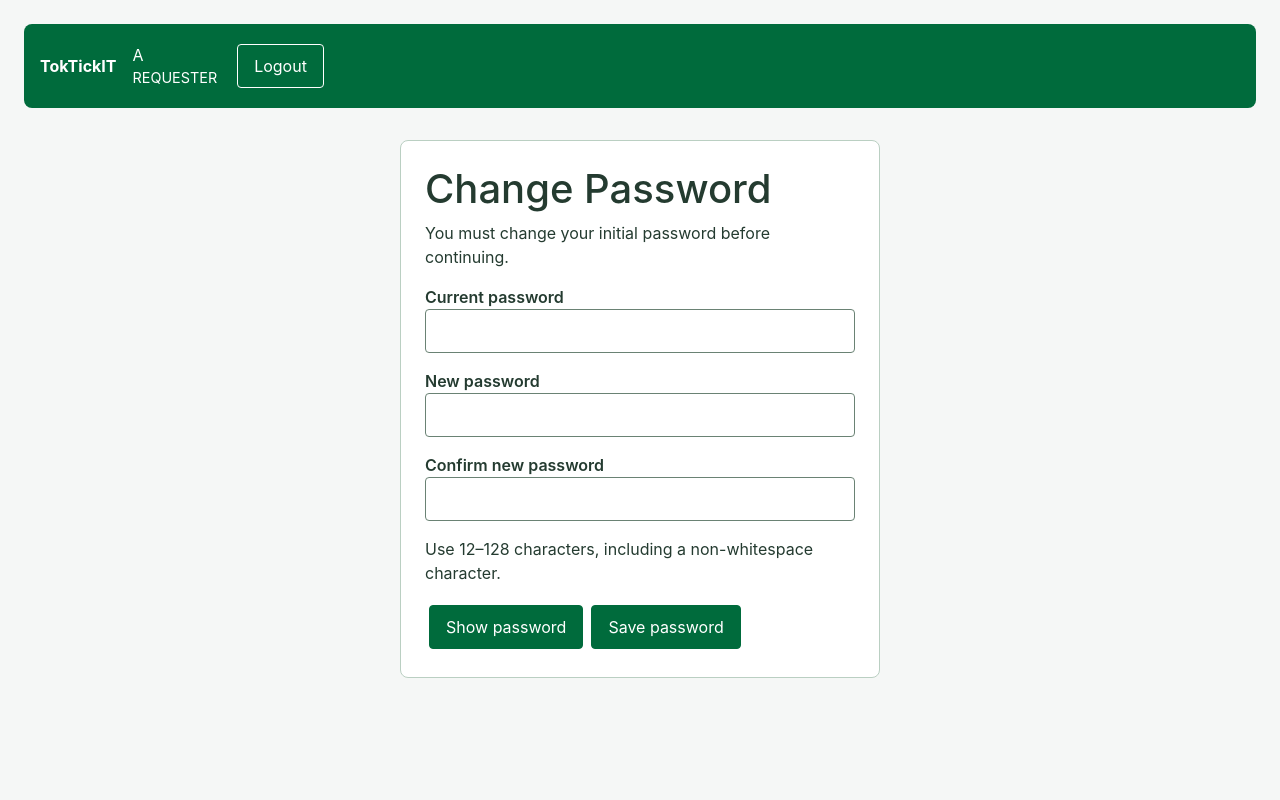
Test case: UI-02 shows server validation and session-loss states without bypass
This screenshot has width=1280, height=800.
Expected: the heading "Change Password" is shown, left=425, top=164, right=772, bottom=213
Type "incorrect password" into the password field labelled "Current password". click: [640, 331]
box: left=425, top=309, right=855, bottom=353
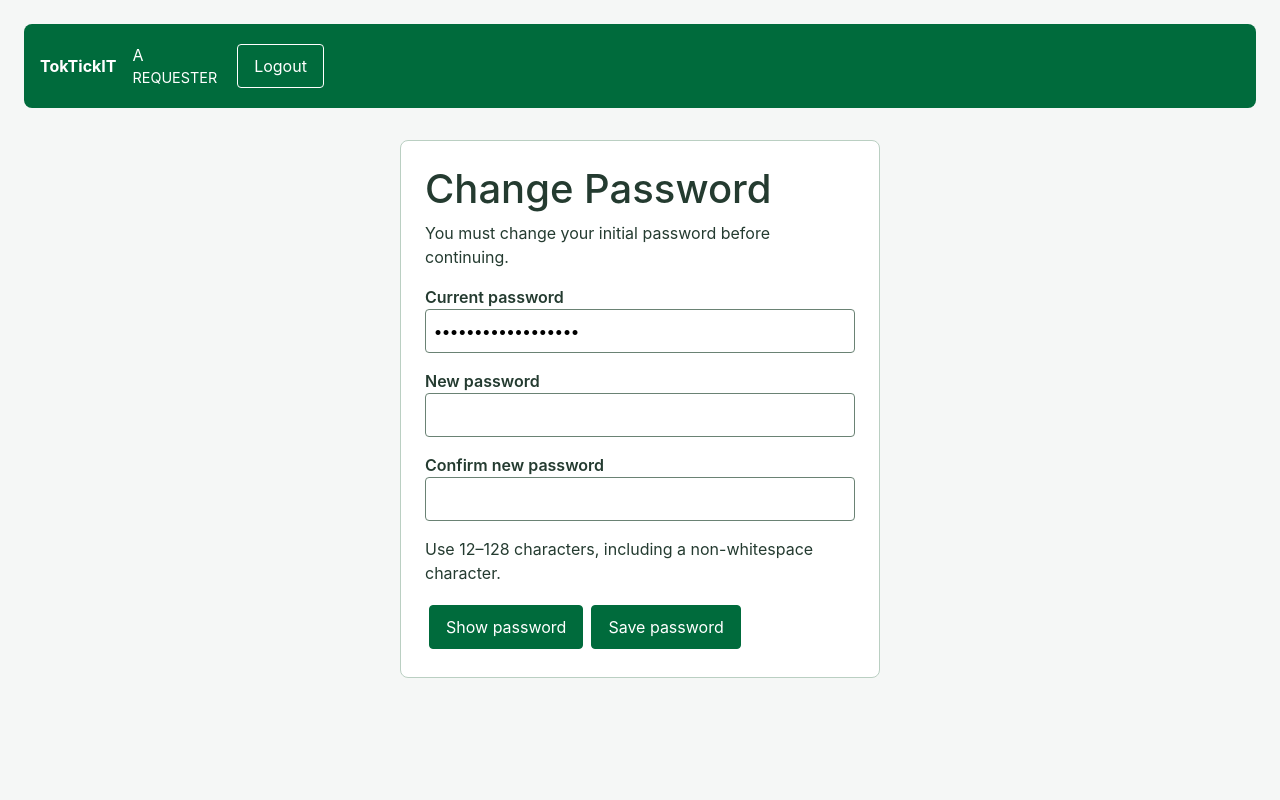
Type "new password long" into the password field labelled "New password". click: [640, 415]
box: left=425, top=393, right=855, bottom=437
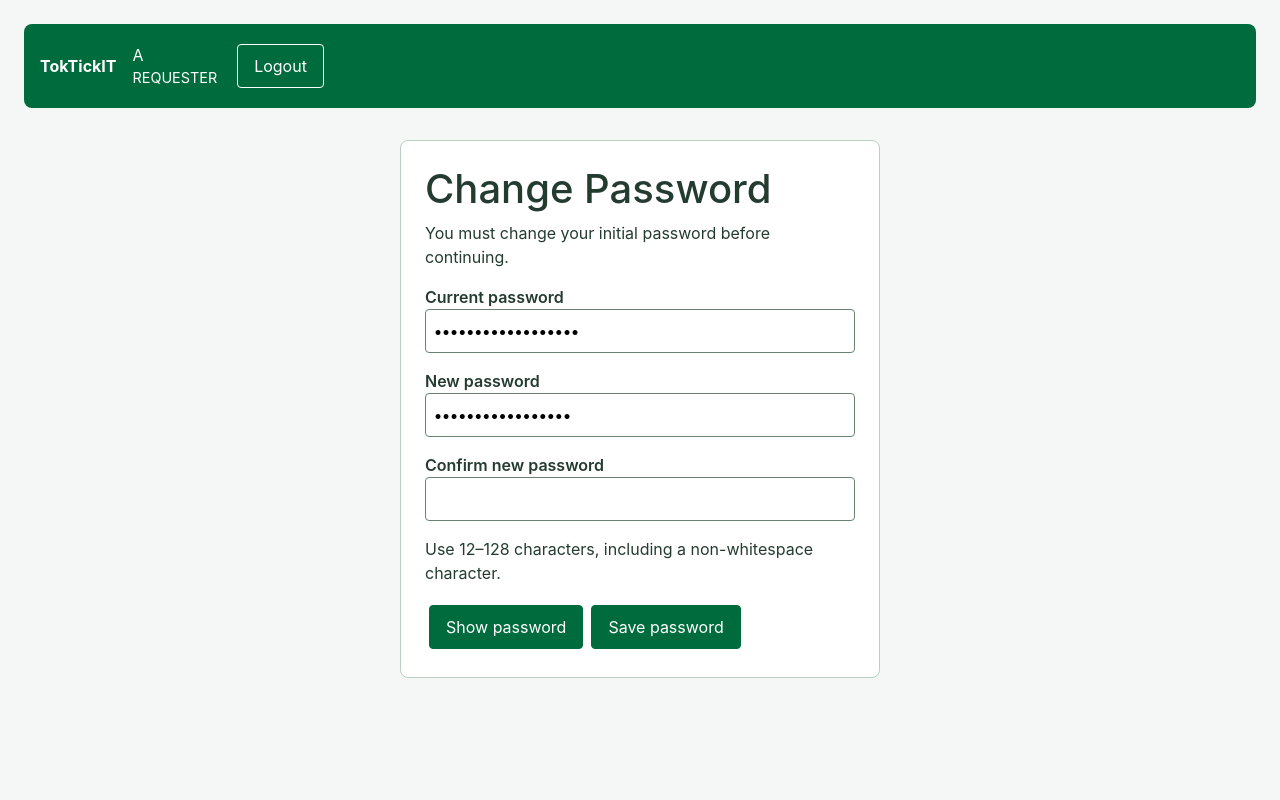
Type "new password long" into the password field labelled "Confirm new password". click: [640, 499]
box: left=425, top=477, right=855, bottom=521
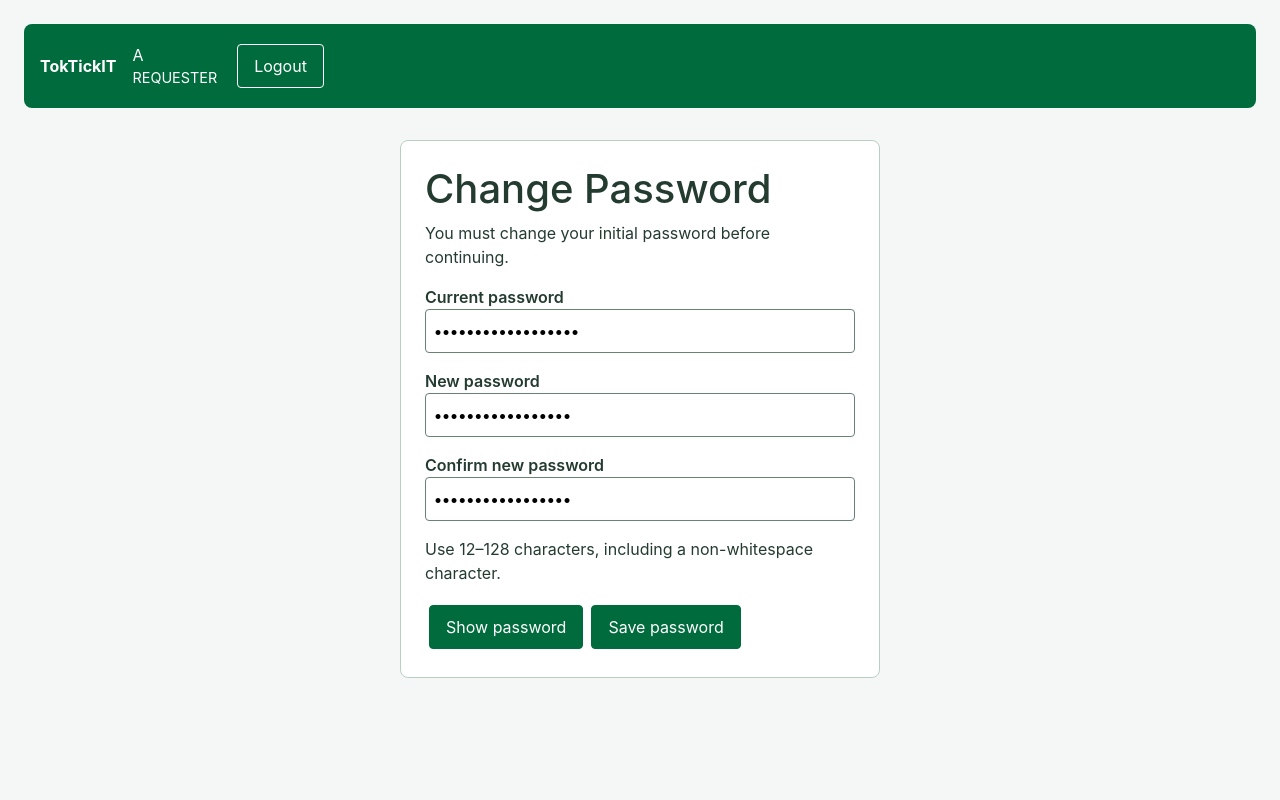
Click the button "Save password". click: [666, 627]
box: left=591, top=605, right=741, bottom=649
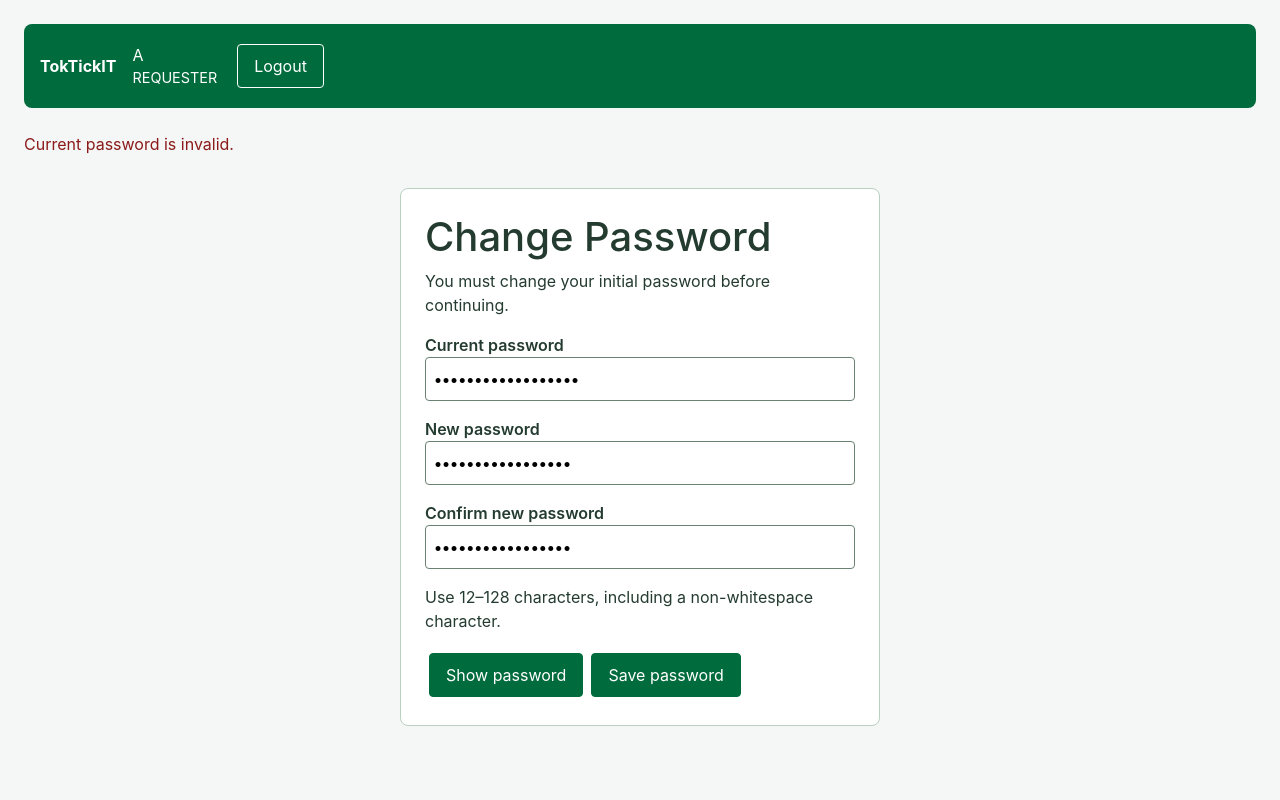
Expected: the text "Current password is invalid." is shown, left=24, top=134, right=234, bottom=154
Click the button "Save password". click: [666, 675]
box: left=591, top=653, right=741, bottom=697
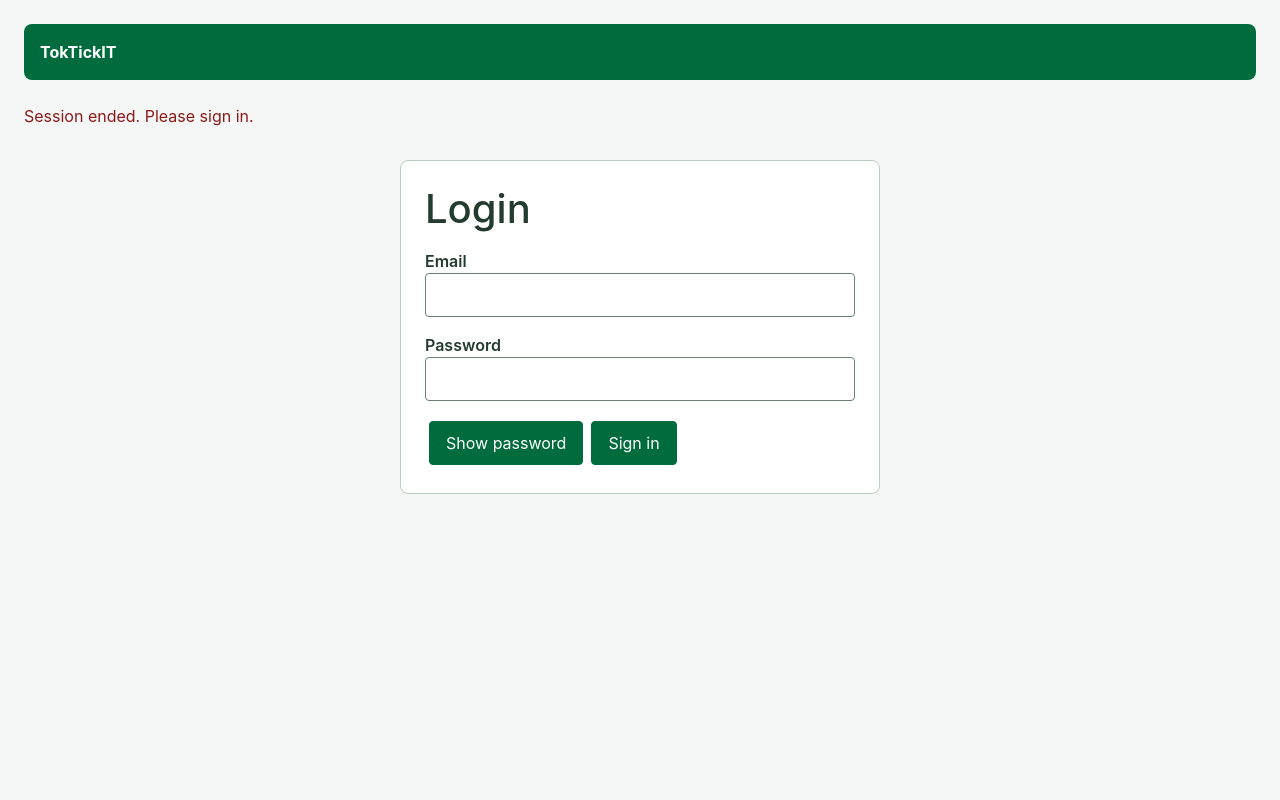
Expected: the heading "Login" is shown, left=425, top=184, right=531, bottom=233
Expected: the password field labelled "Password" is empty, left=425, top=357, right=855, bottom=401
